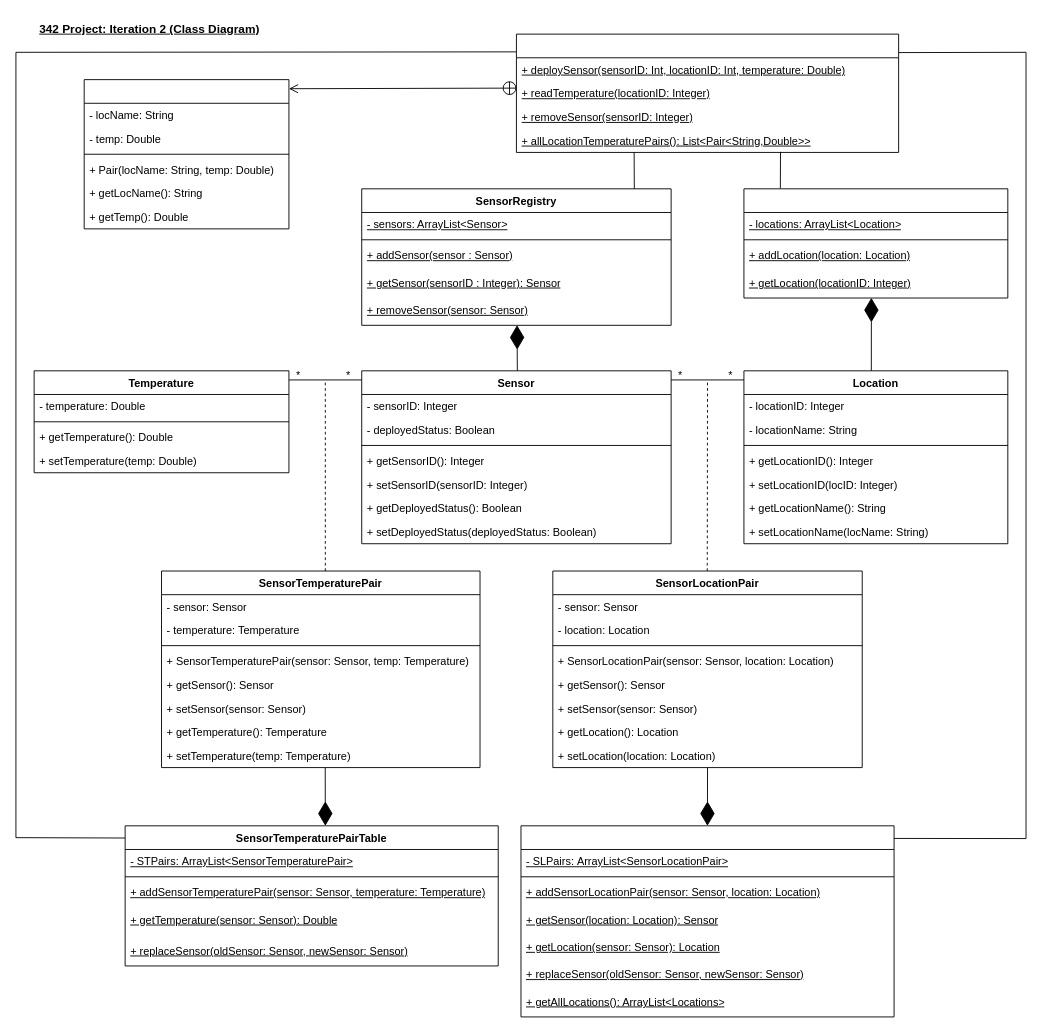
Image size: 1043x1035. Some labels were removed from this diagram. The shapes that lost their labels are listed below. From the top down, each one's box as (x1, y1, x2, y2) in pixels, then its label:
(516, 33, 899, 152): Console
(83, 79, 289, 229): Pair<String,Double>
(743, 188, 1008, 298): LocationRegistry
(520, 825, 894, 1017): SensorLocationPairTable
